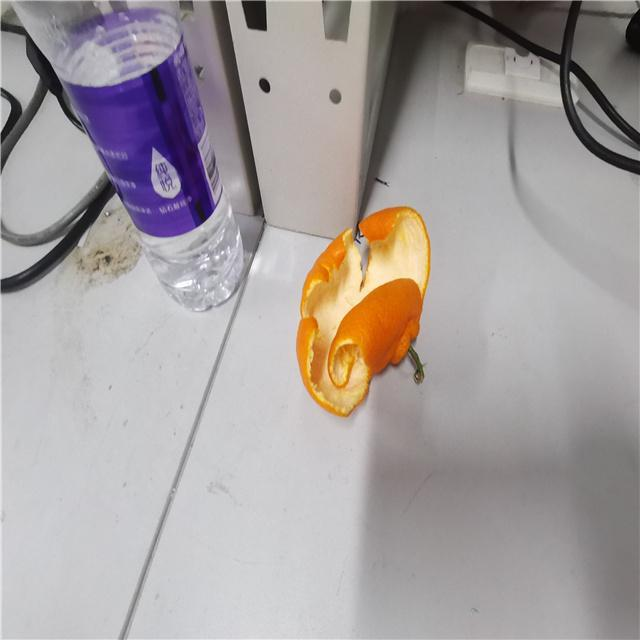orange-peel: (295, 205, 431, 417)
